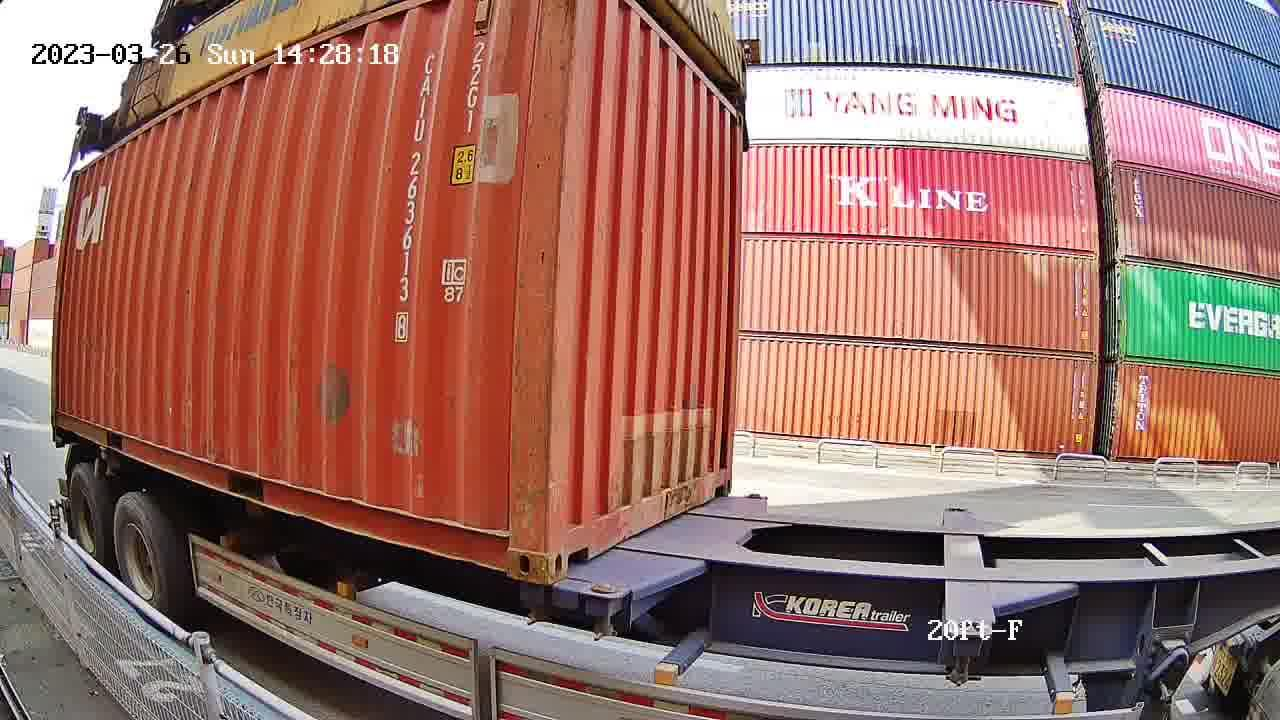Chassis: (584, 494, 765, 597)
Cone: (582, 582, 627, 645), (514, 581, 544, 626)
Hole_L: (545, 489, 598, 590)
Hole_R: (474, 496, 549, 587), (710, 458, 733, 501)
Tire: (114, 494, 177, 621), (70, 467, 108, 571)
